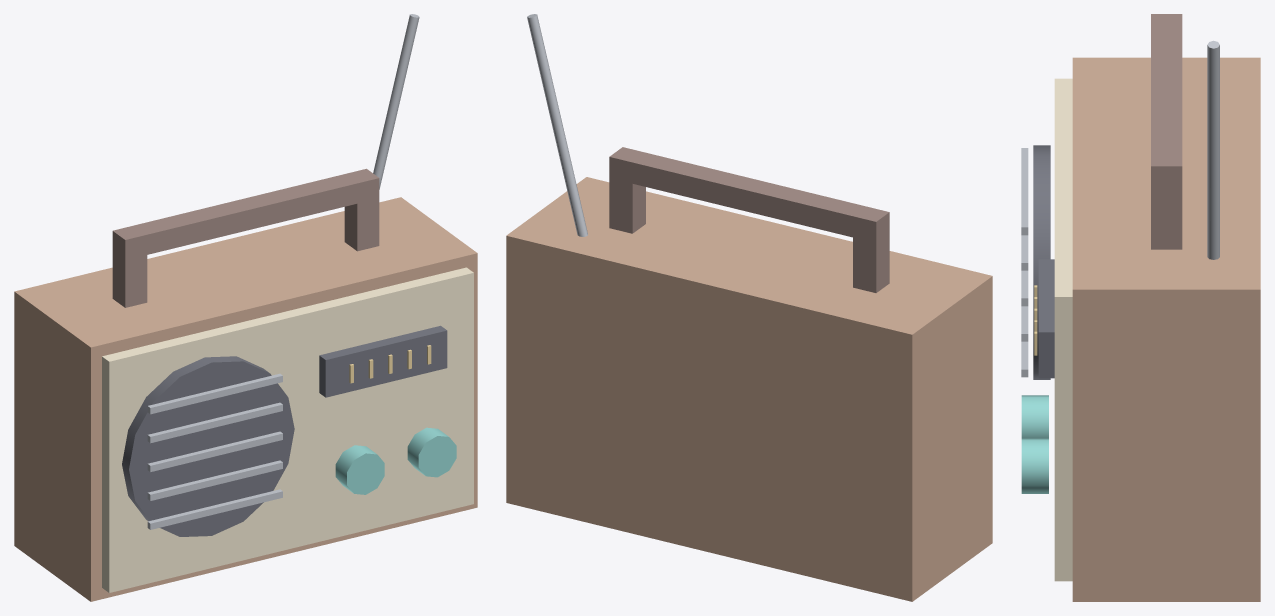
File: 02_radio_retro.glb
3 views of the same model, side by side, from view 1: azimuth 30°, elevation 25°; view 2: azimuth 150°, elevation 25°; view 3: azimuth 270°, elevation 25° (orthographic). The views are drawn at different scales.
Visible parts, largest first — view 1: body (×6); view 2: body (×3); view 3: body (×6).
Part boxes in pixels (box(x1,y1,x2,y2)): body (×6): box(14, 14, 477, 601); body (×3): box(506, 14, 992, 601); body (×6): box(1021, 14, 1260, 601).
Bounding box in the file's own units: 0.7 × 0.782 × 0.3055.
